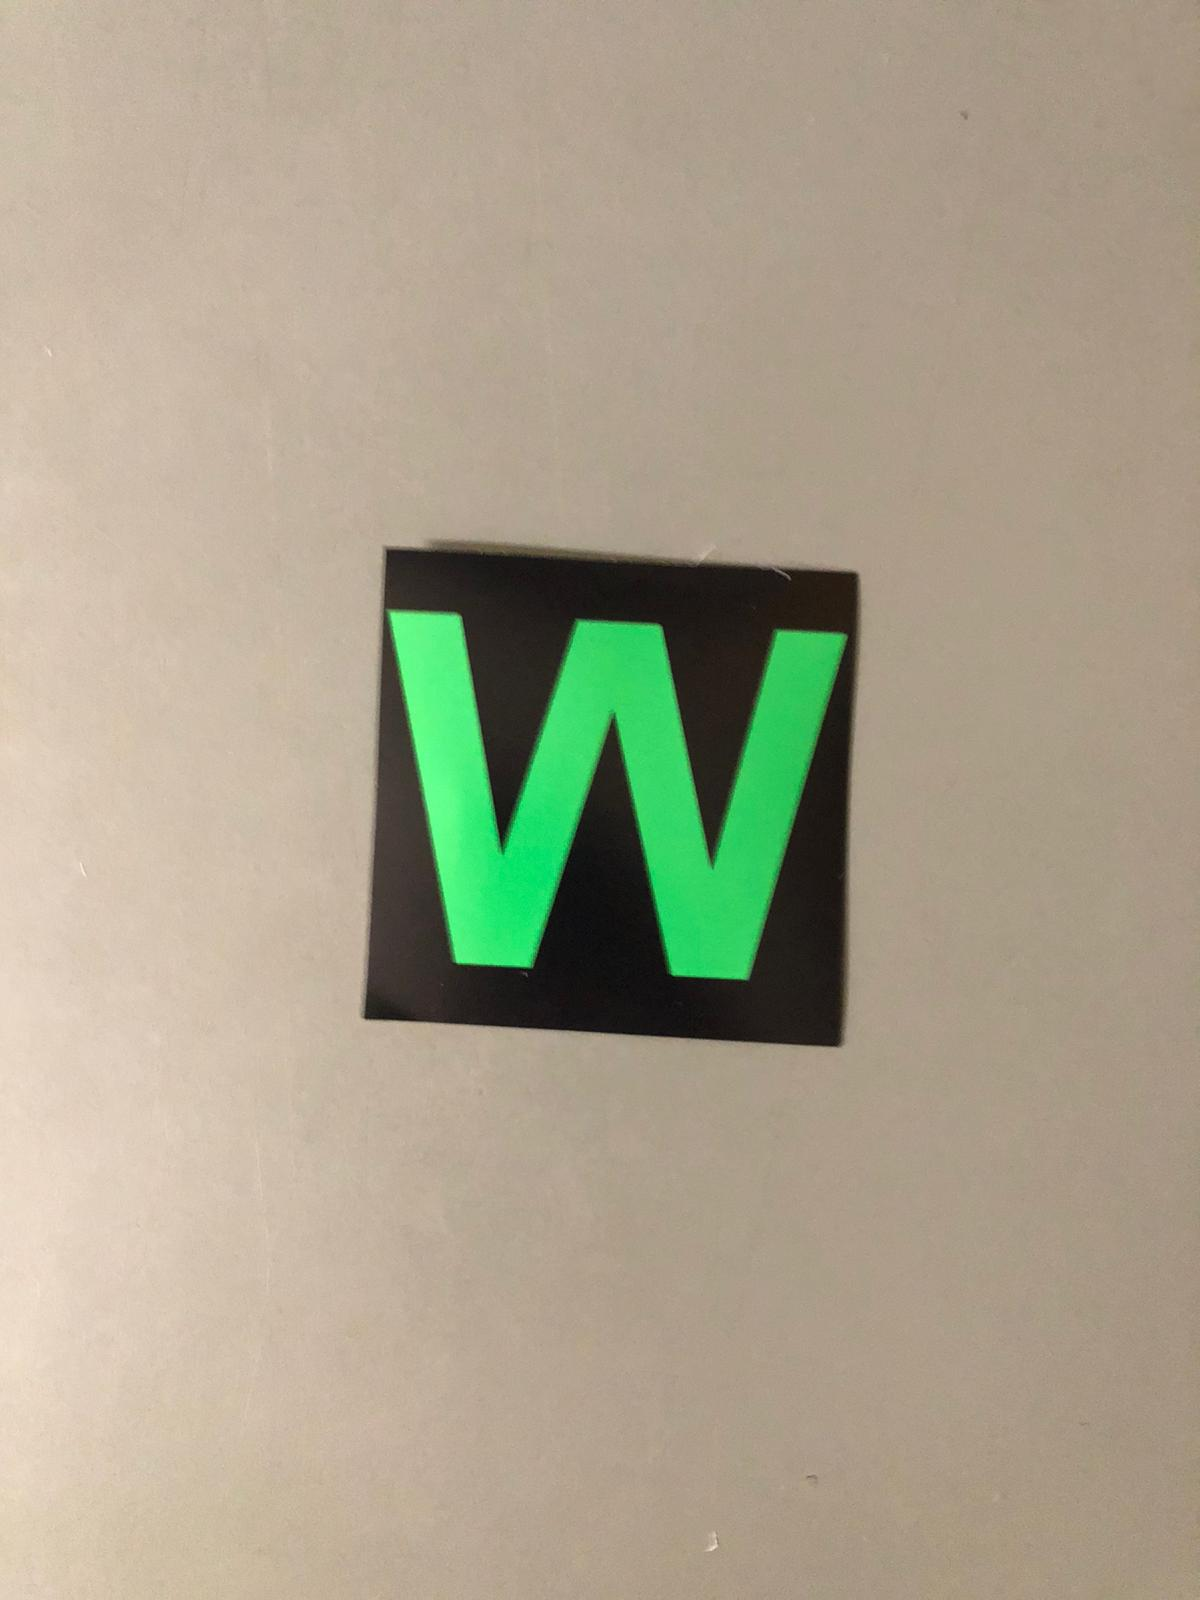W: (376, 567, 838, 1026)
